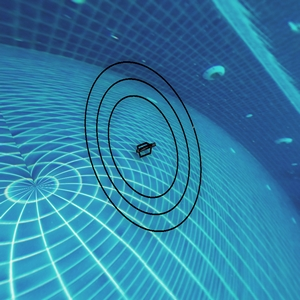circle: (76, 56, 215, 232)
submarine: (138, 140, 162, 156)
